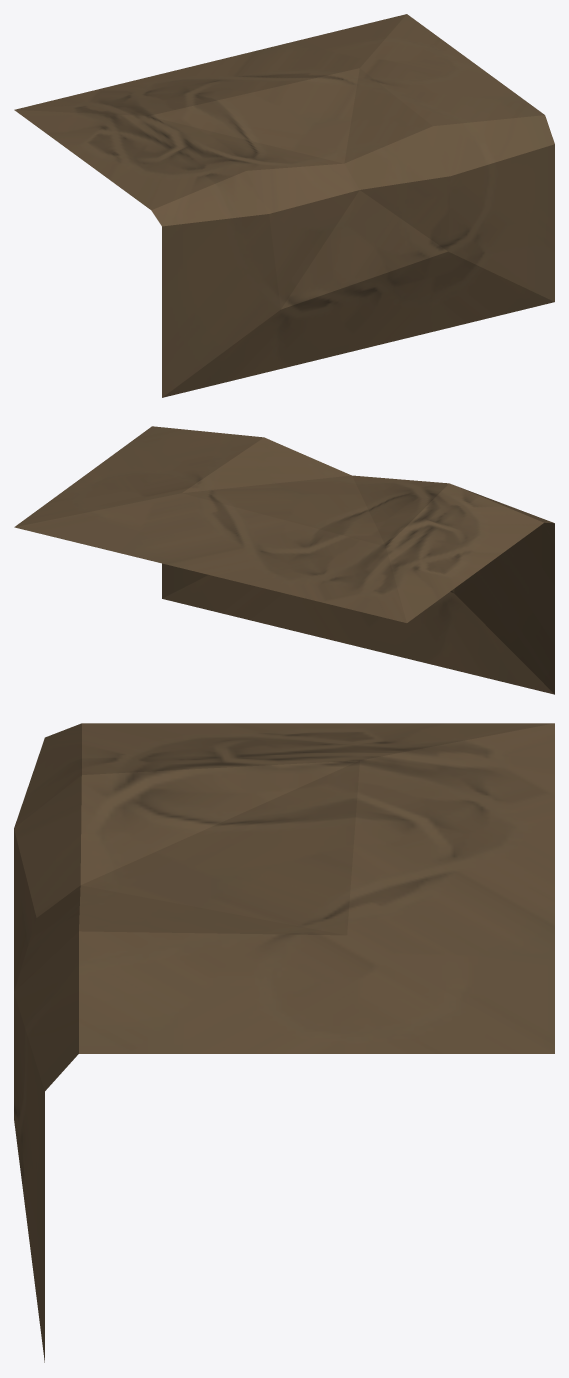
File: SM_Prop_Ropes_06.fbx
3 views of the same model, one above another, from view 1: azimuth 30°, elevation 25°; view 2: azimuth 150°, elevation 25°; view 3: azimuth 270°, elevation 25° (orthographic). The views are drawn at different scales.
Parts seen in each view (by area): view 1: SM_Prop_Ropes_06; view 2: SM_Prop_Ropes_06; view 3: SM_Prop_Ropes_06.
Boxes of the visible parts, box(x1,y1,x2,y2) form: SM_Prop_Ropes_06: box(14, 14, 554, 397); SM_Prop_Ropes_06: box(14, 426, 554, 694); SM_Prop_Ropes_06: box(14, 723, 554, 1362).
Size of the model in its own units: 134 by 63.94 by 92.79.
